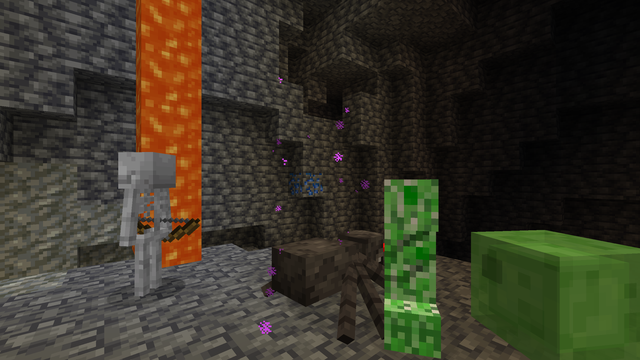araignees: (271, 221, 364, 344)
creepers: (368, 171, 449, 358)
slimes: (475, 224, 630, 353)
squelettes: (121, 151, 175, 303)
